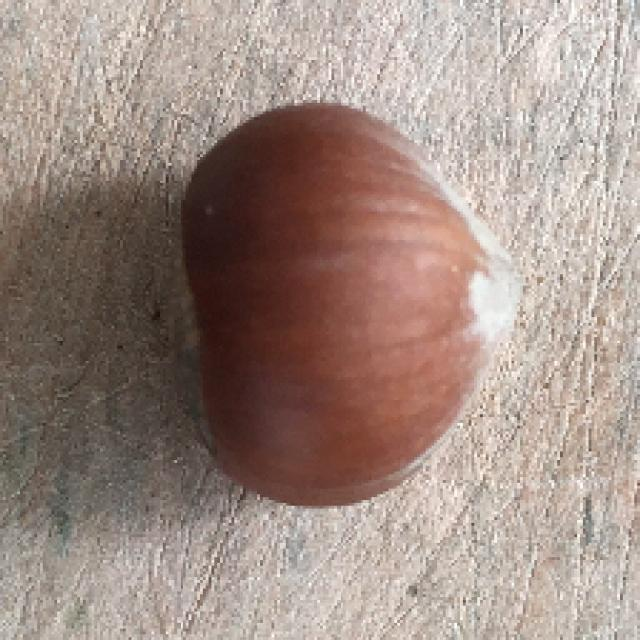qualityHazelnut: (189, 100, 514, 514)
